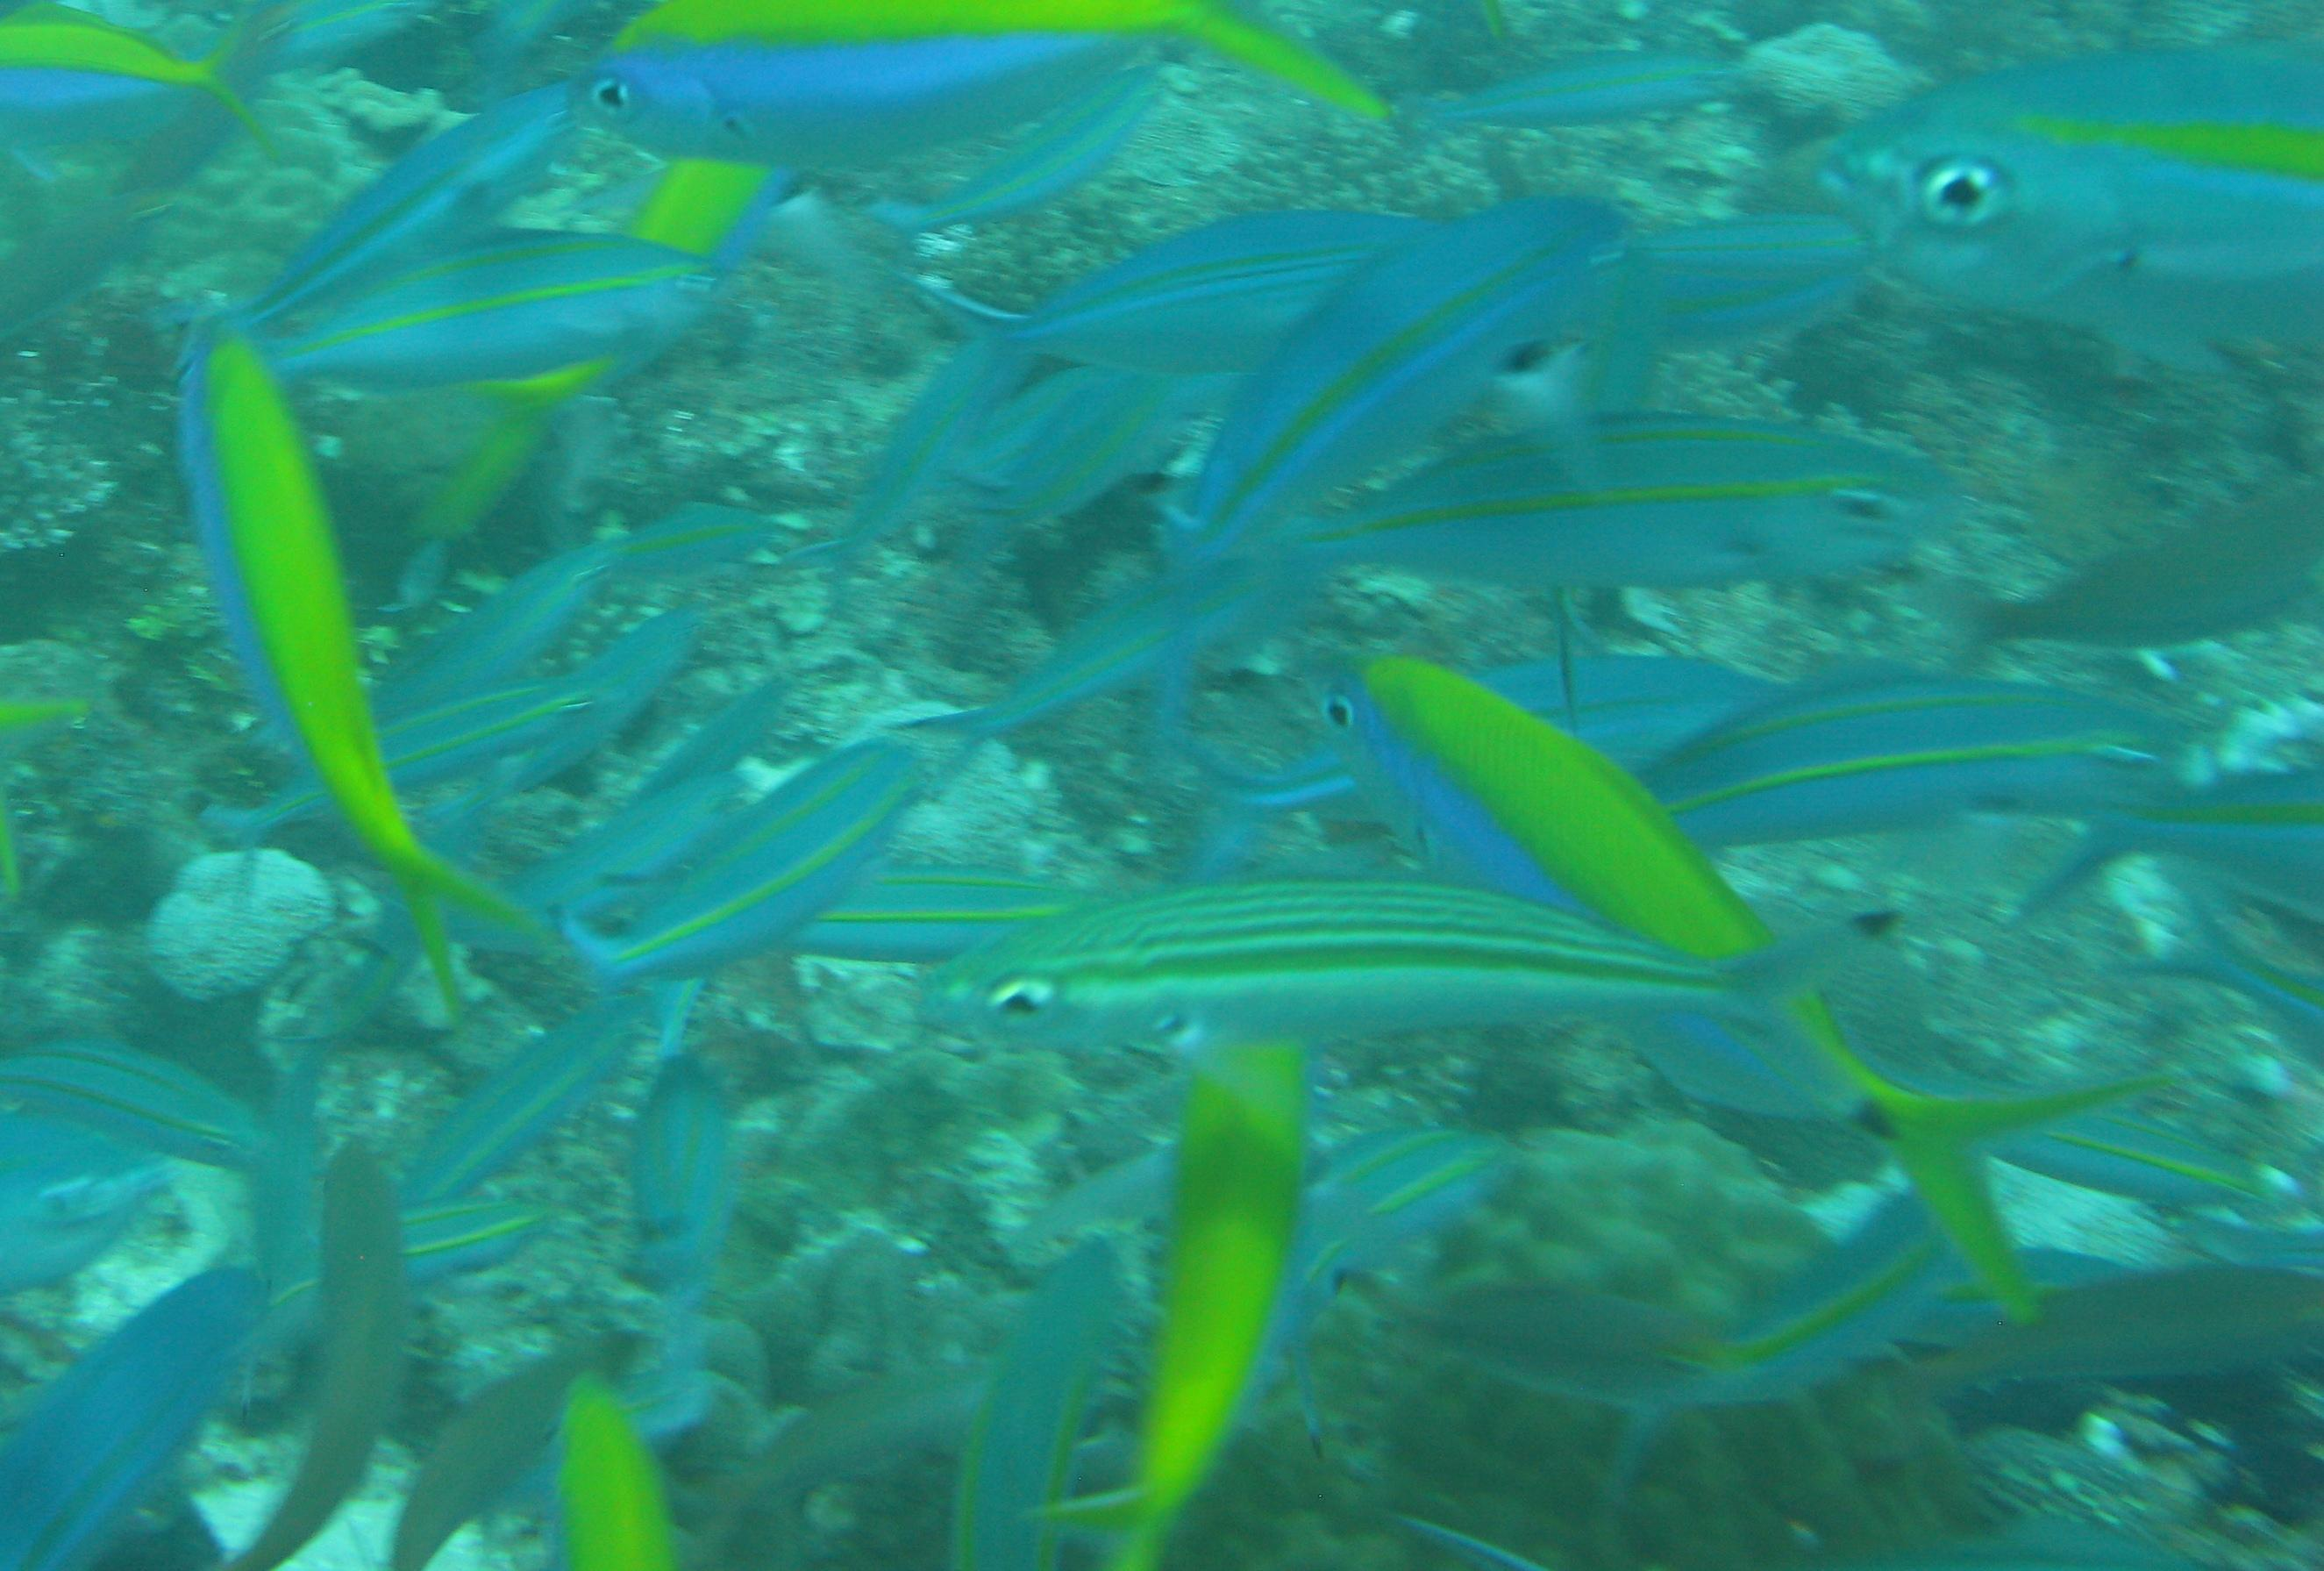Caesio xanthonota: (913, 826, 1921, 1168), (149, 267, 540, 1024), (603, 0, 1434, 205)
